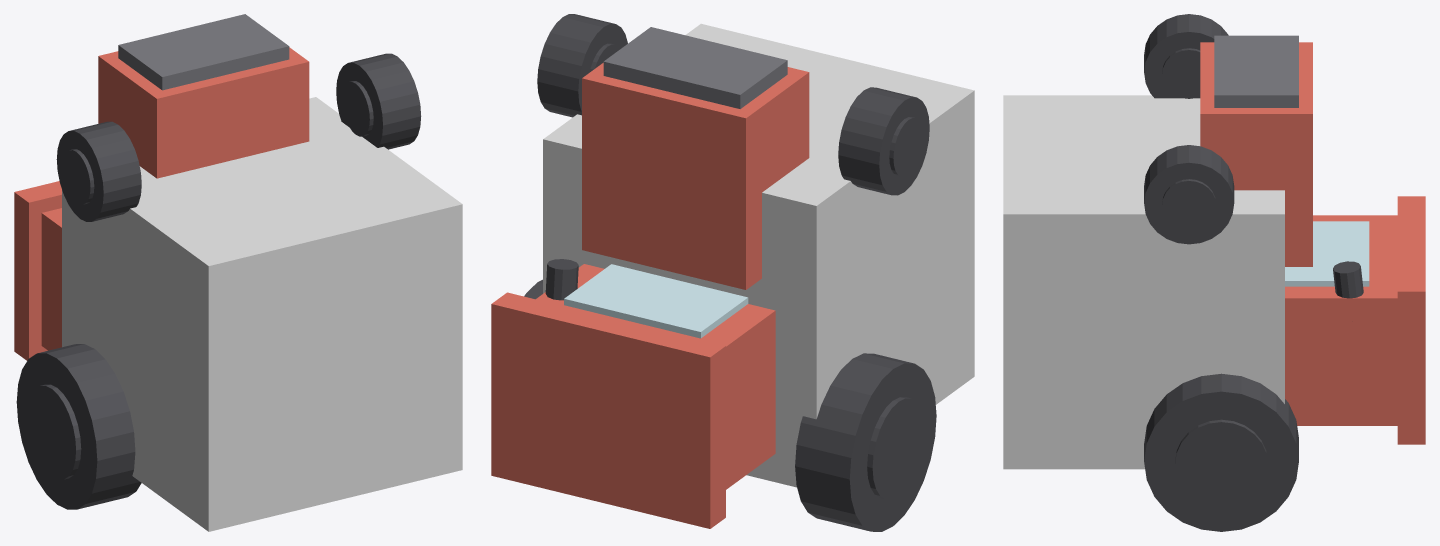
The model's file is tractor_2.glb.
3 renders of one model, left to right at view 1: azimuth 30°, elevation 25°; view 2: azimuth 150°, elevation 25°; view 3: azimuth 270°, elevation 25°, orthographic. The views are drawn at different scales.
Parts seen in each view (by area): view 1: Cube, Bonnet, Wheel_RR, Grille, Wheel_FR, Wheel_FL, Roof, Cabin; view 2: Cube, Roof, Bonnet, Wheel_RR, Cabin, Grille, Wheel_FR, WinFront, Wheel_FL, Exhaust; view 3: Cube, Wheel_RL, Cabin, Bonnet, Wheel_FL, Roof, Grille, Wheel_FR, WinFront, Exhaust.
Boxes of the visible parts, bbox=[...] form: Cube: bbox=[62, 97, 462, 531]; Bonnet: bbox=[98, 47, 309, 178]; Wheel_RR: bbox=[16, 344, 141, 509]; Grille: bbox=[118, 14, 289, 90]; Wheel_FR: bbox=[56, 121, 141, 221]; Wheel_FL: bbox=[336, 53, 421, 149]; Roof: bbox=[14, 181, 61, 360]; Cabin: bbox=[41, 208, 61, 350]; Cube: bbox=[543, 23, 974, 487]; Roof: bbox=[491, 292, 725, 528]; Bonnet: bbox=[582, 62, 809, 289]; Wheel_RR: bbox=[795, 353, 936, 531]; Cabin: bbox=[536, 264, 775, 489]; Grille: bbox=[603, 27, 787, 108]; Wheel_FR: bbox=[838, 87, 929, 195]; WinFront: bbox=[564, 264, 748, 338]; Wheel_FL: bbox=[537, 14, 627, 117]; Exhaust: bbox=[545, 259, 578, 300]; Cube: bbox=[1003, 95, 1284, 469]; Wheel_RL: bbox=[1144, 373, 1298, 531]; Cabin: bbox=[1285, 215, 1397, 425]; Bonnet: bbox=[1200, 42, 1312, 266]; Wheel_FL: bbox=[1144, 145, 1234, 244]; Roof: bbox=[1397, 196, 1425, 444]; Grille: bbox=[1214, 35, 1298, 107]; Wheel_FR: bbox=[1144, 14, 1228, 98]; WinFront: bbox=[1285, 221, 1369, 286]; Exhaust: bbox=[1333, 261, 1363, 298].
Size of the model in its own units: 2.68 by 3.05 by 3.
